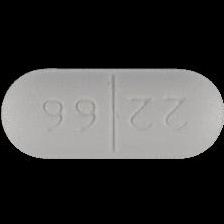66336-486: (0, 0, 224, 224)
